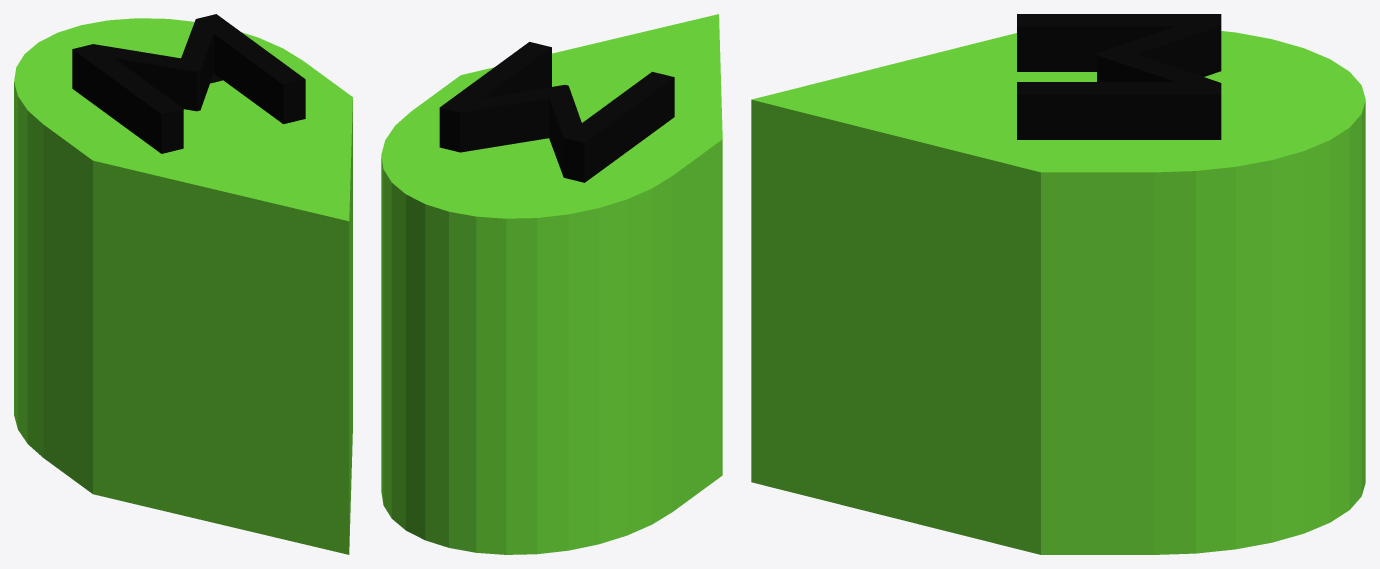
File: MeHandle.fbx
The picture shows the model from 3 angles, left to right: view 1: azimuth 30°, elevation 25°; view 2: azimuth 150°, elevation 25°; view 3: azimuth 270°, elevation 25°; orthographic projection. The views are drawn at different scales.
Parts seen in each view (by area): view 1: Cube; view 2: Cube; view 3: Cube.
Boxes of the visible parts, left/top/right/bottom form: Cube: left=14, top=14, right=352, bottom=554; Cube: left=381, top=14, right=722, bottom=554; Cube: left=751, top=14, right=1365, bottom=554.
Size of the model in its own units: 163 by 224 by 291.
